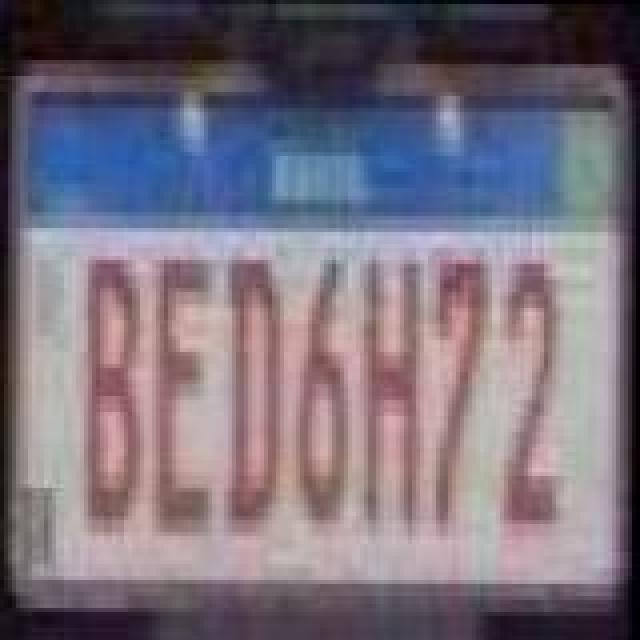2: (504, 254, 568, 530)
6: (290, 236, 358, 528)
7: (434, 252, 494, 544)
B: (82, 250, 150, 542)
D: (222, 244, 290, 536)
E: (154, 244, 222, 536)
H: (362, 244, 430, 536)
